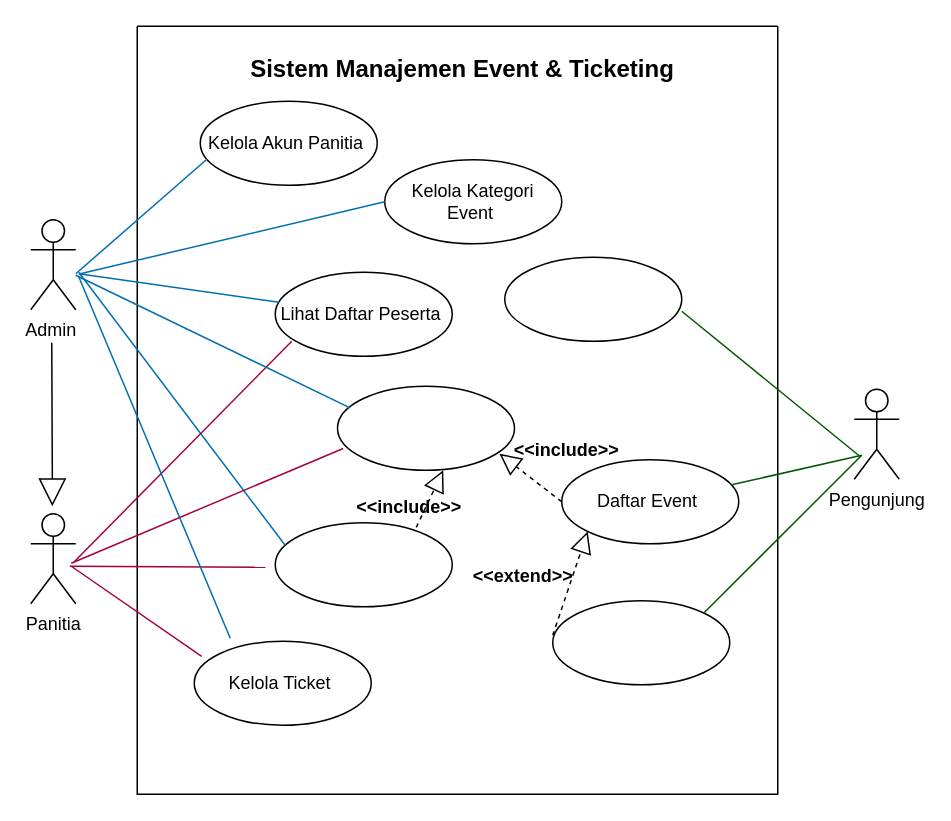
Image size: 951x821. Some labels were removed from this diagram. Here are the shapes that lost their labels. From the top down, the box of each, then its label:
(503, 256, 682, 341): Cari & Lihat Event
(336, 385, 514, 470): LOGIN
(274, 521, 452, 607): Kelola Event
(551, 599, 730, 685): Upload Bukti Pembayaran
